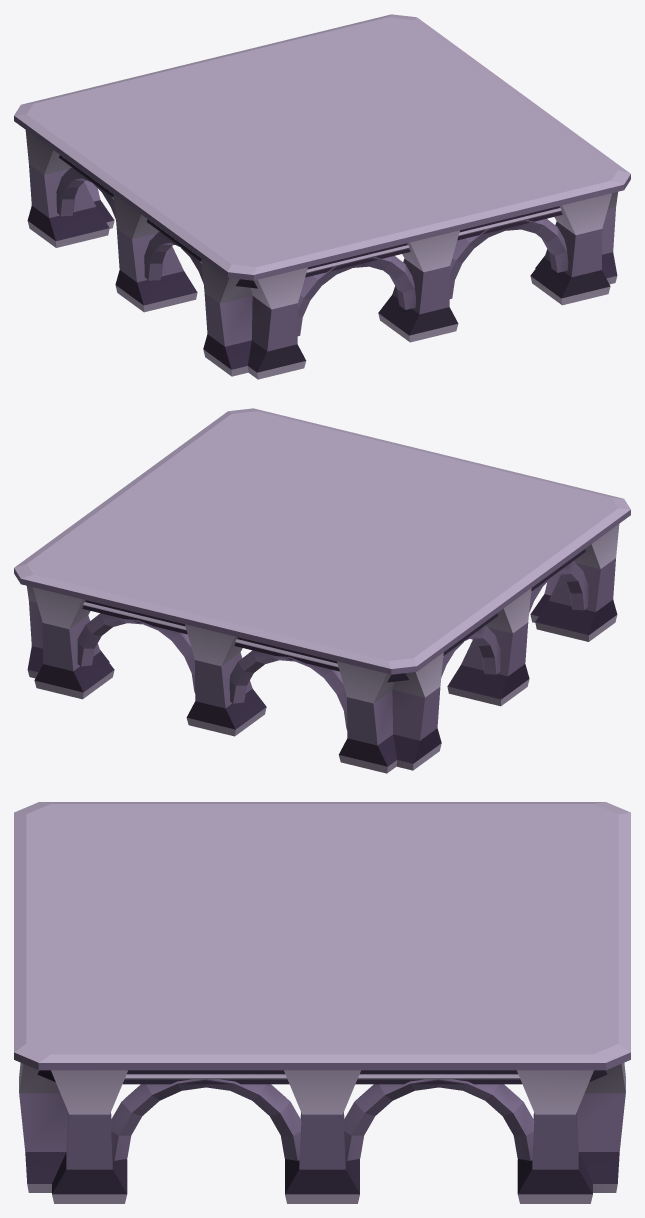
The model's file is biome-deck-arcade.glb.
3 renders of one model, top to bottom at view 1: azimuth 30°, elevation 25°; view 2: azimuth 150°, elevation 25°; view 3: azimuth 270°, elevation 25°, orthographic. The views are drawn at different scales.
Parts seen in each view (by area): view 1: biome-deck-arcade; view 2: biome-deck-arcade; view 3: biome-deck-arcade.
Part boxes in pixels (x1,y1,x2,y2): biome-deck-arcade: (14, 14, 630, 379); biome-deck-arcade: (14, 408, 630, 773); biome-deck-arcade: (14, 802, 630, 1203).
Bounding box in the file's own units: 19.18 × 5.17 × 19.18.
